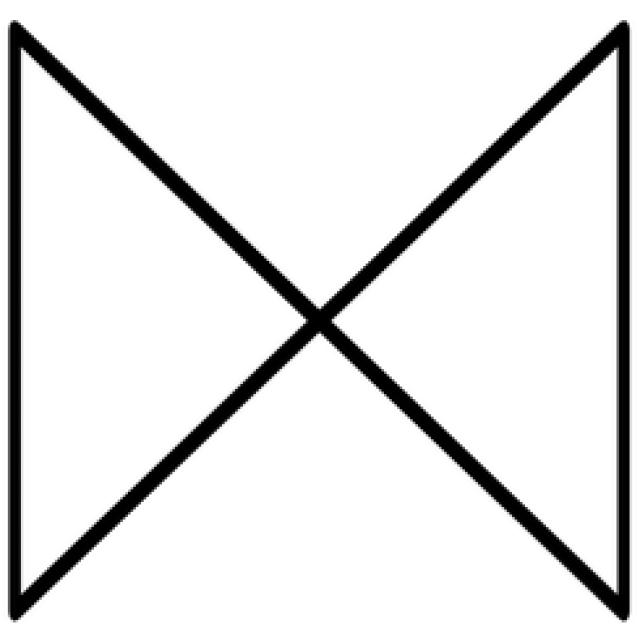Gate valve: (318, 22, 625, 613), (13, 29, 316, 605)
